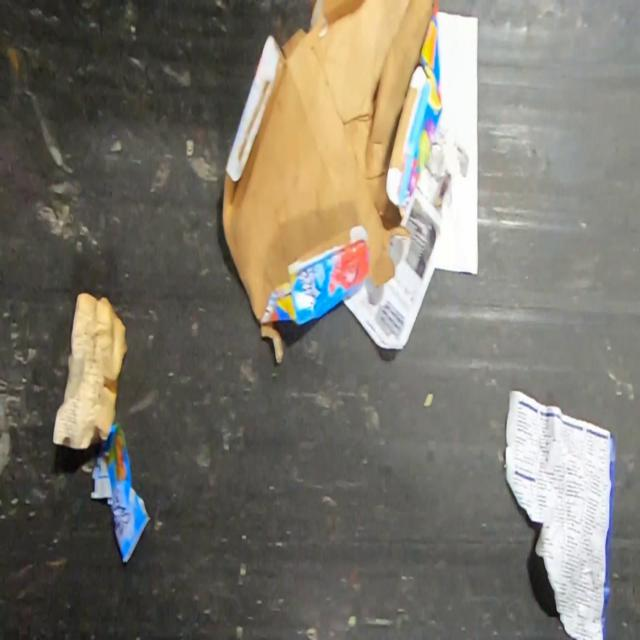cardboard: (220, 0, 443, 366)
